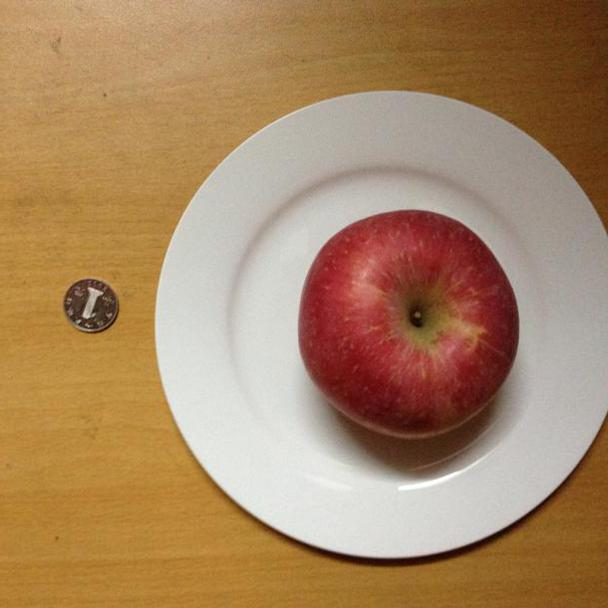apple: (298, 210, 522, 442)
